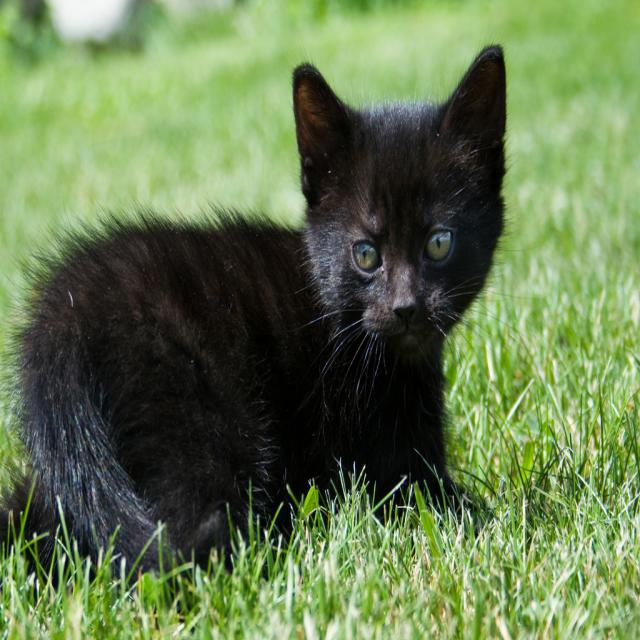Cat: (0, 39, 512, 581)
